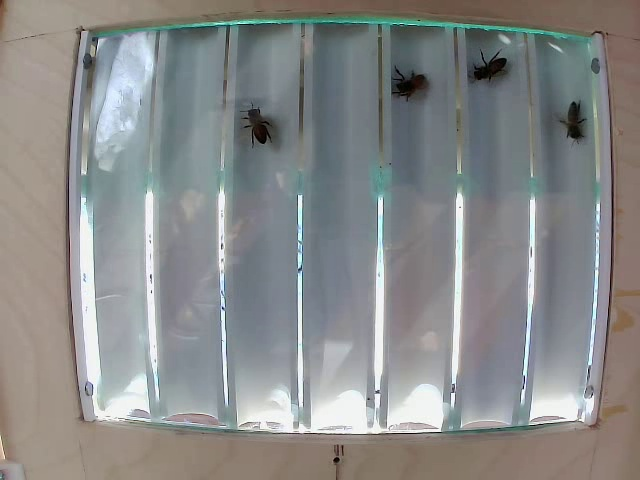bee: (230, 109, 282, 162), (467, 51, 510, 95), (555, 89, 586, 148), (394, 66, 435, 103)
